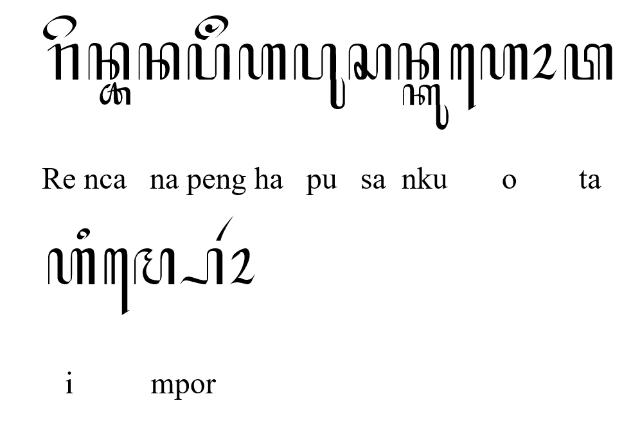_c: (100, 82, 132, 106)
_p: (178, 248, 224, 287)
_r1: (215, 215, 233, 241)
e: (43, 14, 77, 40)
e1: (450, 43, 476, 111), (104, 248, 130, 316)
eng: (193, 15, 229, 40)
h: (48, 248, 94, 286), (238, 44, 286, 80), (480, 44, 528, 80)
i: (78, 228, 90, 240)
ku: (403, 82, 449, 130)
m: (134, 248, 174, 286)
n: (88, 42, 130, 80), (138, 42, 180, 80), (398, 42, 440, 80)
o: (530, 42, 558, 79), (229, 248, 255, 286)
p: (188, 43, 230, 81)
pu: (292, 43, 346, 109)
r: (48, 42, 80, 80)
s: (348, 44, 392, 80)
t: (563, 44, 613, 80)
